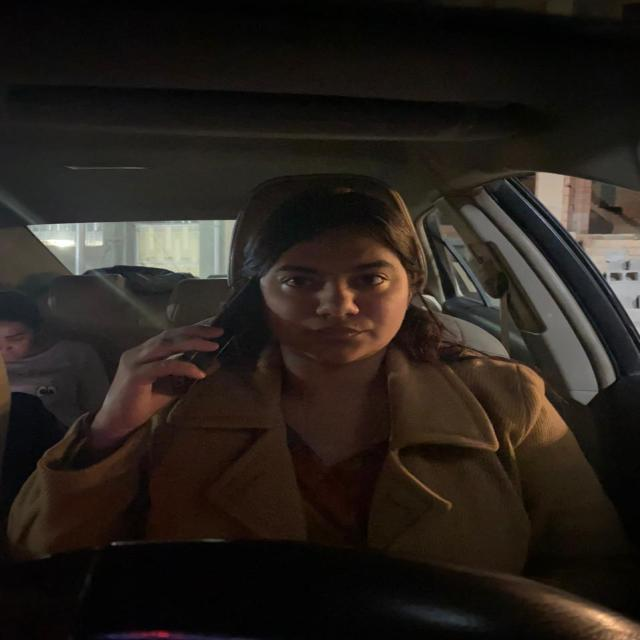phone: (180, 275, 258, 379)
